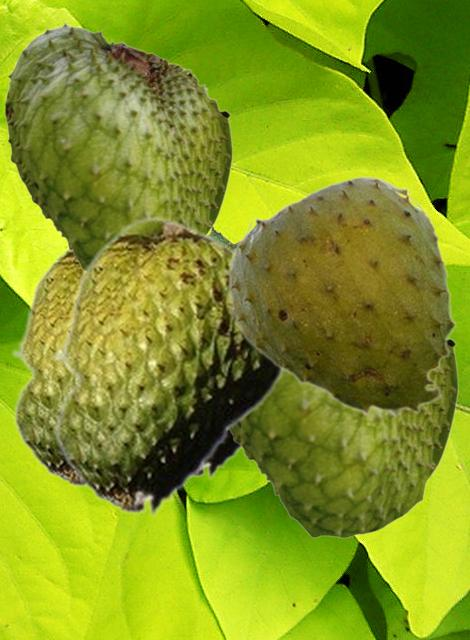guyabano: (51, 215, 286, 518), (4, 20, 232, 269), (223, 175, 456, 418), (229, 337, 458, 538), (10, 247, 84, 490), (195, 432, 242, 480)
